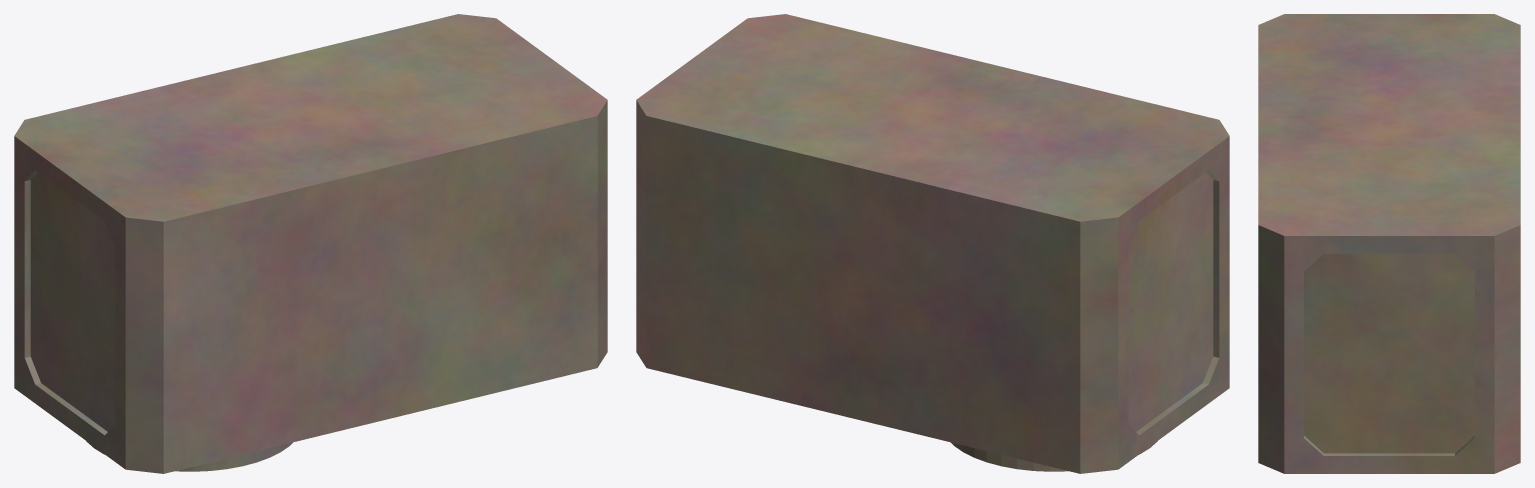
File: Air vent.glb
The picture shows the model from 3 angles, left to right: view 1: azimuth 30°, elevation 25°; view 2: azimuth 150°, elevation 25°; view 3: azimuth 270°, elevation 25°; orthographic projection. The views are drawn at different scales.
Parts seen in each view (by area): view 1: Cooling element pipes; view 2: Cooling element pipes; view 3: Cooling element pipes.
Part boxes in pixels (box(x1,y1,x2,y2)): Cooling element pipes: box(14, 14, 607, 473); Cooling element pipes: box(636, 14, 1229, 473); Cooling element pipes: box(1258, 14, 1520, 473).
Bounding box in the file's own units: 10.27 × 5.65 × 5.14.
Materials: 1 (1 with a texture image).
